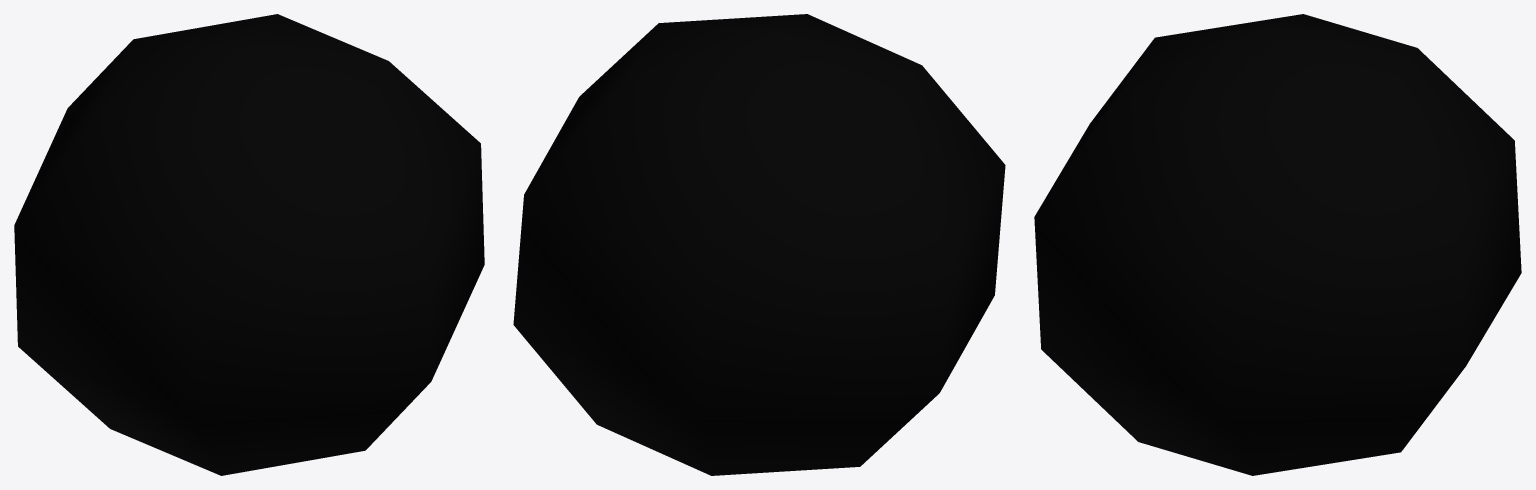
Rendered from bubble_solid_sphere13.glb.
The picture shows the model from 3 angles, left to right: view 1: azimuth 30°, elevation 25°; view 2: azimuth 150°, elevation 25°; view 3: azimuth 270°, elevation 25°; orthographic projection. The views are drawn at different scales.
Parts seen in each view (by area): view 1: bubble_solid_texture.png__; view 2: bubble_solid_texture.png__; view 3: bubble_solid_texture.png__.
Boxes of the visible parts, left/top/right/bottom form: bubble_solid_texture.png__: left=14, top=14, right=484, bottom=475; bubble_solid_texture.png__: left=513, top=14, right=1005, bottom=475; bubble_solid_texture.png__: left=1034, top=14, right=1521, bottom=475.
Size of the model in its own units: 8.3 by 7.66 by 8.1.
1 material, 1 textured.
